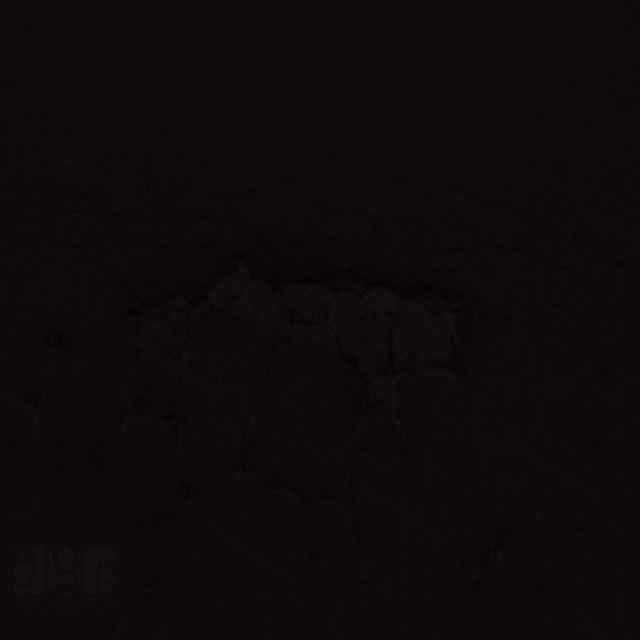Pothole: (130, 248, 488, 423)
